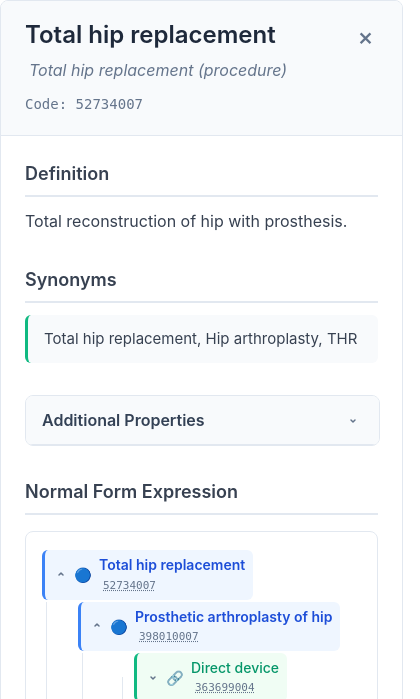
Test case: ConceptDetailsComponent › Properties Section › should handle boolean properties correctly
// Expand the properties section
Click the button named "Expand additional properties": click(353, 420) [343,410,363,430]
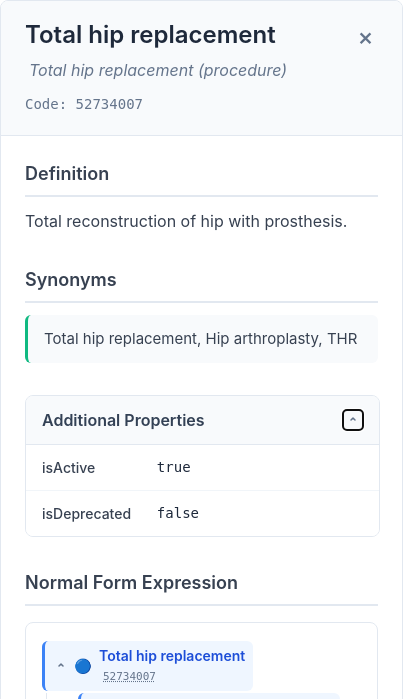
expect the text "isActive" is shown: met, box [42,459,95,476]
expect the text "true" is shown: met, box [157,459,190,475]
expect the text "isDeprecated" is shown: met, box [42,503,145,524]
